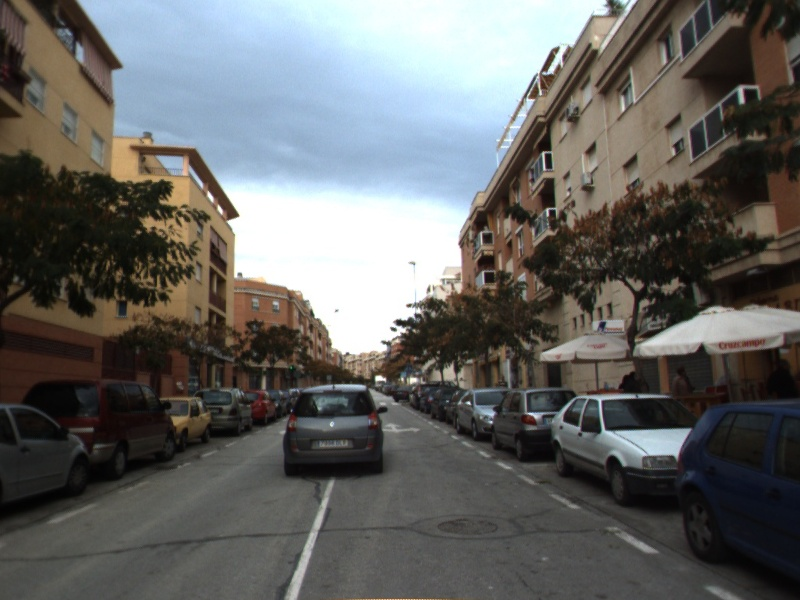STRAIGHT_LEFT_RIGHT: (381, 420, 423, 435)
